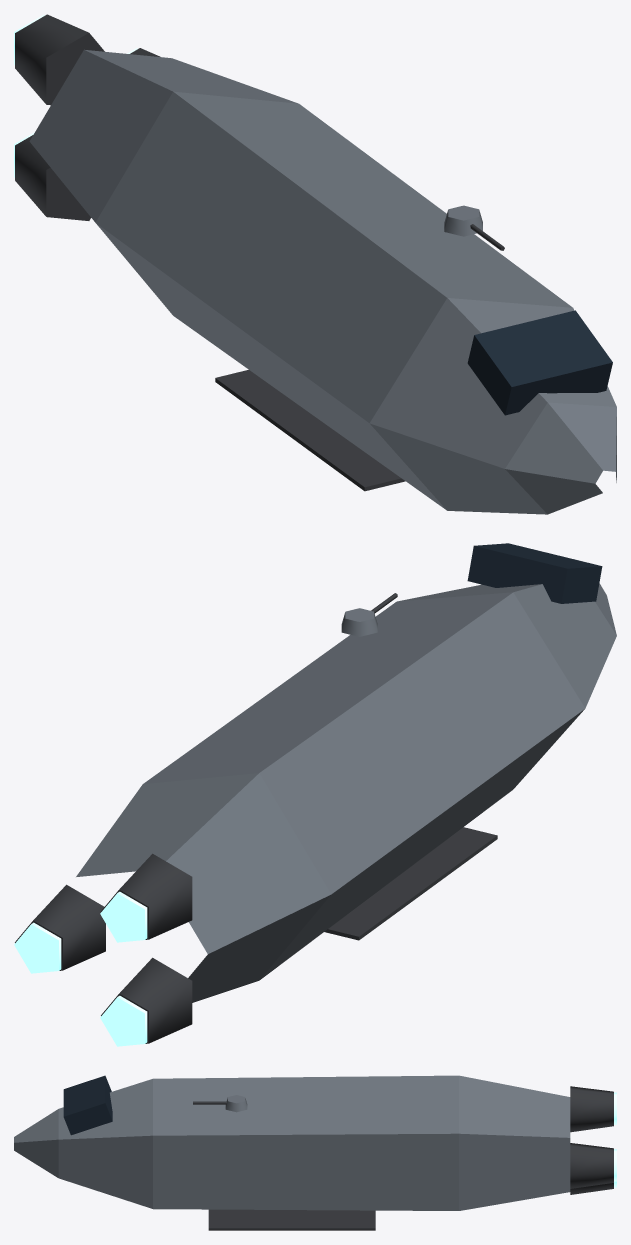
File: space_ship_transport_mk3_lod1.glb
3 views of the same model, one above another, from view 1: azimuth 30°, elevation 25°; view 2: azimuth 150°, elevation 25°; view 3: azimuth 270°, elevation 25° (orthographic). The views are drawn at different scales.
Visible parts, largest first — view 1: body, hangar_door, engine_1, engine_2, turret_0; view 2: body, engine_2, engine_1, engine_0, hangar_door, turret_0; view 3: body, hangar_door, engine_0, engine_1, turret_0, engine_2.
Part boxes in pixels (<box>): body: <box>29,49,616,514</box>; hangar_door: <box>215,369,405,491</box>; engine_1: <box>14,14,104,105</box>; engine_2: <box>14,132,90,220</box>; turret_0: <box>444,205,504,250</box>; body: <box>76,543,616,1002</box>; engine_2: <box>100,957,192,1046</box>; engine_1: <box>100,853,192,942</box>; engine_0: <box>14,884,105,973</box>; hangar_door: <box>324,827,497,940</box>; turret_0: <box>341,593,397,636</box>; body: <box>14,1075,570,1210</box>; hangar_door: <box>208,1209,375,1230</box>; engine_0: <box>570,1143,616,1188</box>; engine_1: <box>570,1086,616,1132</box>; turret_0: <box>193,1095,247,1112</box>; engine_2: <box>570,1181,616,1194</box>.
Bounding box in the file's own units: 5.5 × 5.68 × 24.19.
